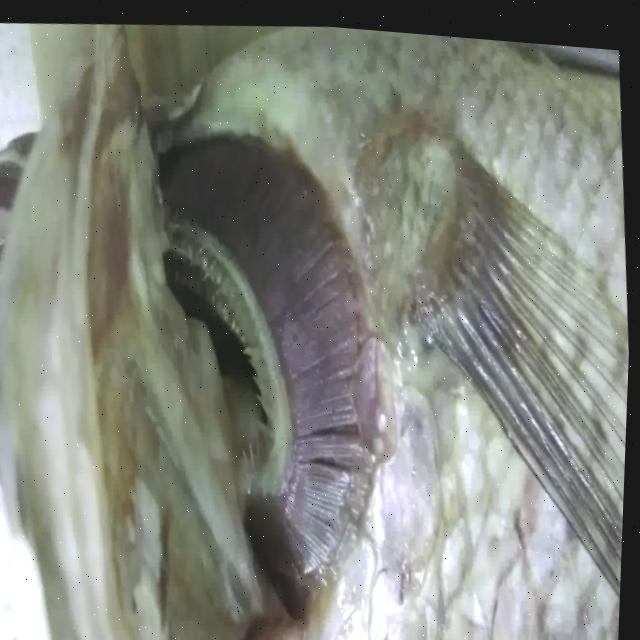Non-Fresh: (125, 76, 404, 622)
